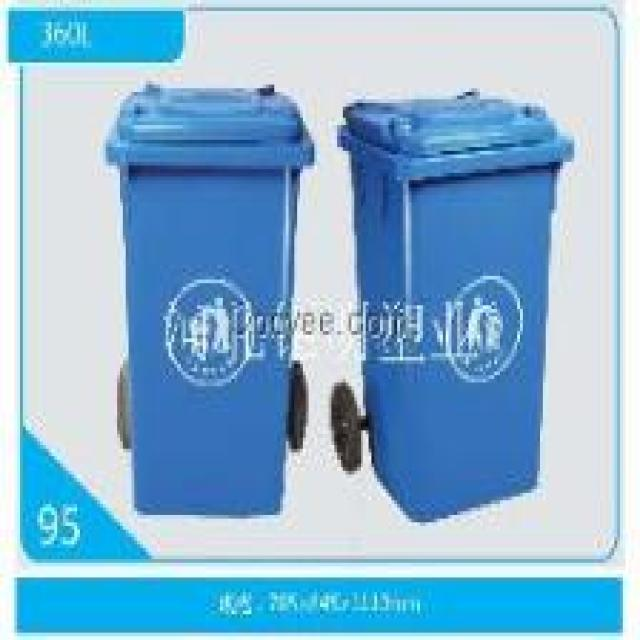garbage_bin: (334, 88, 572, 519), (103, 81, 311, 515)
